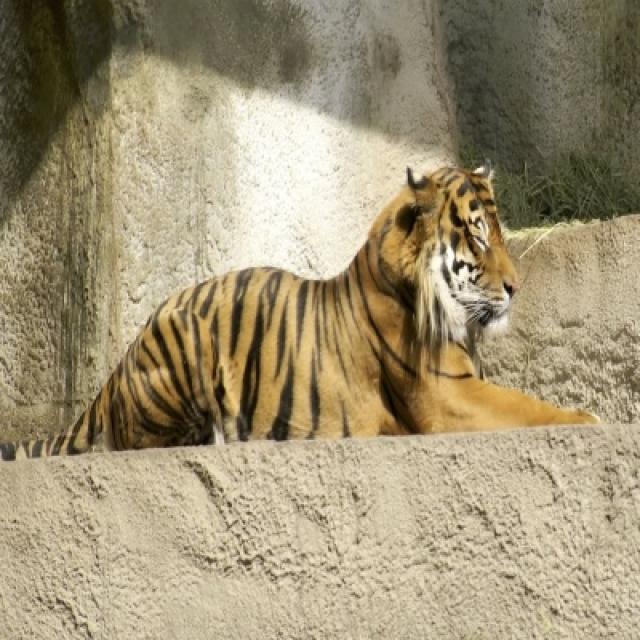Tiger: (18, 163, 596, 451)
